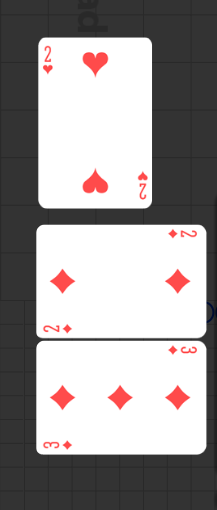2D: (42, 322, 74, 334)
2H: (43, 45, 55, 76)
3D: (42, 439, 75, 450)
